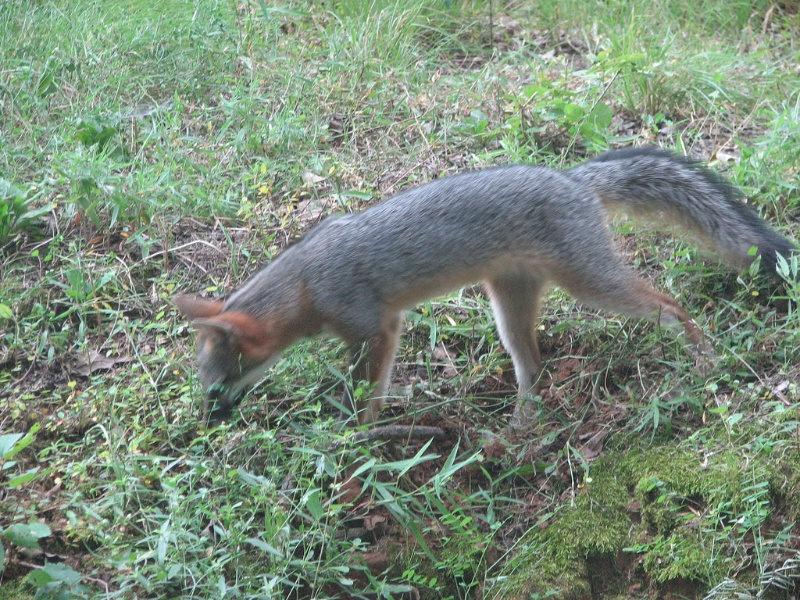fox: (171, 149, 795, 441)
